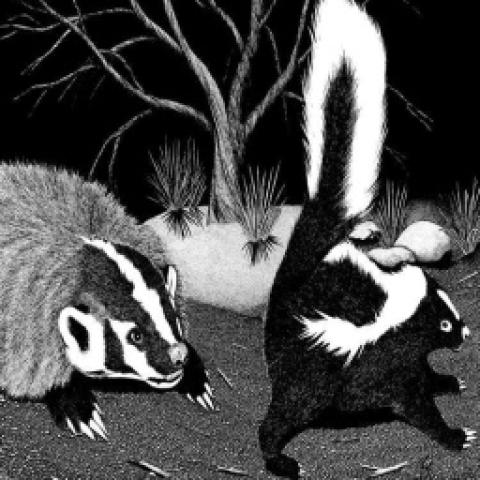small_animal: (256, 2, 480, 476), (0, 156, 219, 438)
